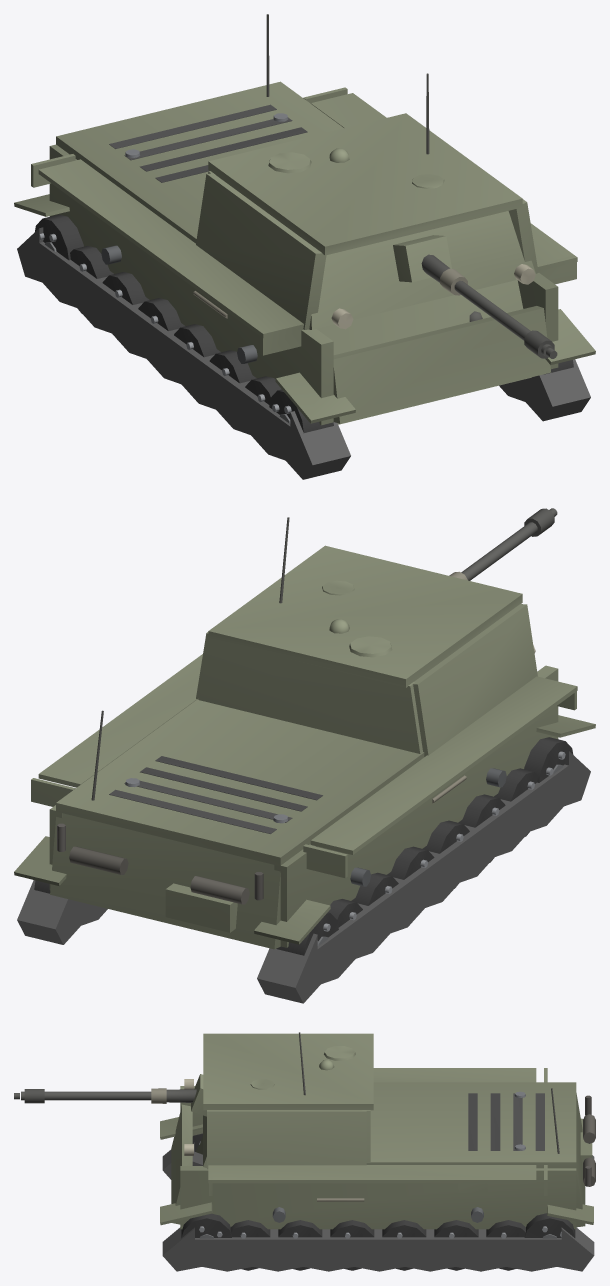
The picture shows the model from 3 angles, top to bottom: view 1: azimuth 30°, elevation 25°; view 2: azimuth 150°, elevation 25°; view 3: azimuth 270°, elevation 25°; orthographic projection. The views are drawn at different scales.
Visible parts, largest first — view 1: hullSide, turretRoof, tracks, hullTop, lowerPlate, mantlet, turretSide, glacis, barrel, wheel7, wheel3, wheel2 (+5 smaller); view 2: hullTop, hullSide, turretRoof, turretSide, tracks, hullRear, barrel, wheel6, wheel4, wheel3, wheel2, wheel5 (+2 smaller); view 3: hullSide, hullTop, tracks, turretRoof, turretSide, barrel, hullRear, lowerPlate, wheel14, wheel15, wheel9, wheel10 (+5 smaller).
Part boxes in pixels (x1,y1,x2,y2): hullSide: (31,87,577,425); turretRoof: (208,73,522,255); tracks: (14,194,595,479); hullTop: (56,81,343,243); lowerPlate: (333,306,551,423); mantlet: (309,211,536,329); turretSide: (196,171,538,329); glacis: (317,280,531,424); barrel: (421,254,557,358); wheel7: (35,214,83,260); wheel3: (174,324,220,357); wheel2: (138,298,185,331); hullTop: (56,699,424,865); hullSide: (31,645,577,947); turretRoof: (208,517,522,687); turretSide: (196,604,537,756); tracks: (14,715,595,1003); hullRear: (50,710,280,949); barrel: (449,508,557,580); wheel6: (524,737,573,782); wheel4: (458,794,505,862); wheel3: (423,820,469,888); wheel2: (387,846,434,914); wheel5: (494,768,537,836); hullSide: (180,1068,576,1229); hullTop: (366,1082,576,1168); tracks: (160,1117,594,1271); turretRoof: (203,1032,373,1110); turretSide: (207,1110,370,1169); barrel: (14,1088,196,1103); hullRear: (551,1088,595,1227); lowerPlate: (171,1104,192,1224); wheel14: (181,1213,231,1238); wheel15: (524,1213,575,1238); wheel9: (434,1220,478,1270); wheel10: (382,1220,426,1270).
Size of the model in its own units: 4.48 by 4.03 by 9.84.
